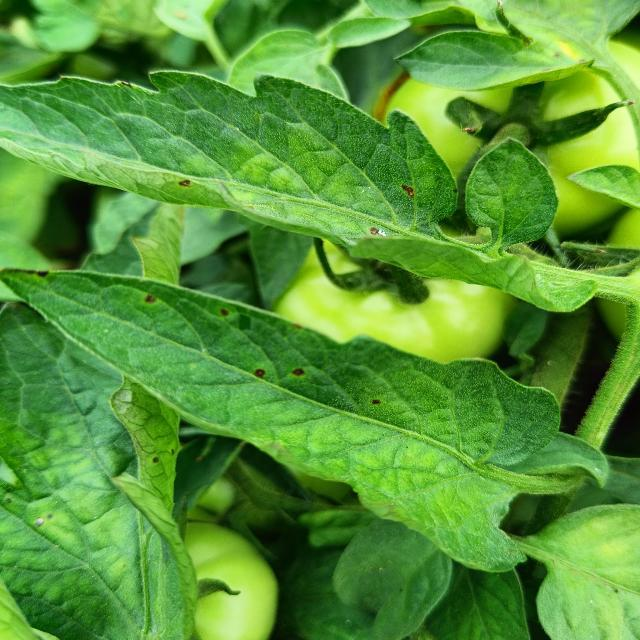Tomato mosaic virus leaf: (0, 265, 529, 579), (62, 68, 464, 262)
